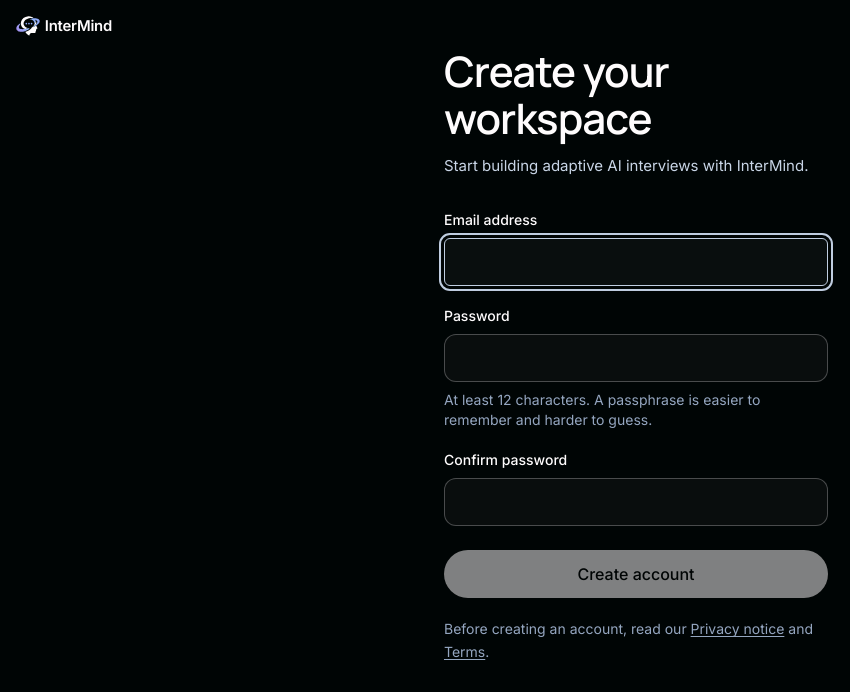
RecruiterSignupPage › will not submit when the two passwords differ
Type "new@example.com" into the field labelled "Email address".
click(636, 262); type("new@example.com")  # box [444, 238, 828, 286]
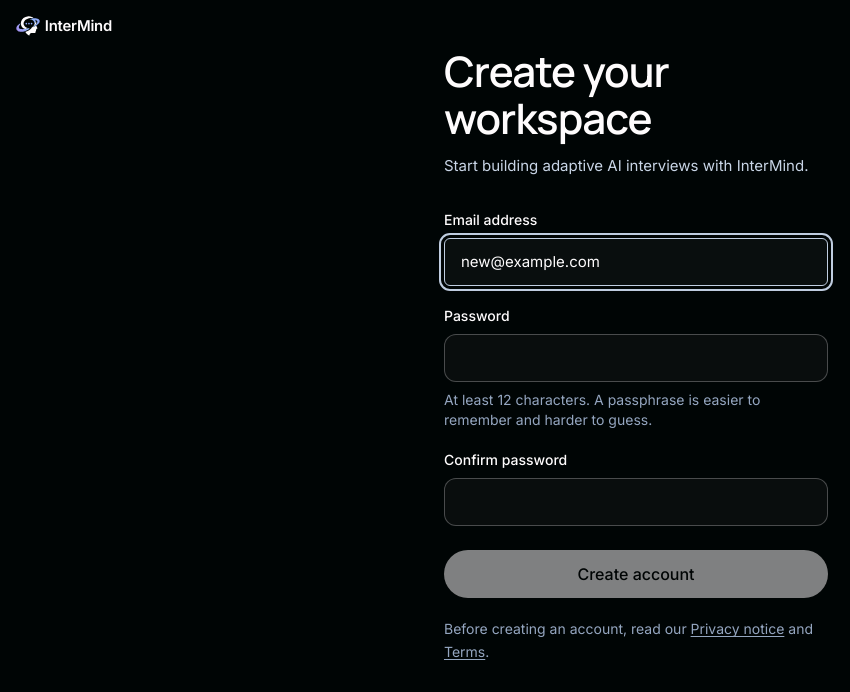
Type "a-long-enough-passphrase" into the password field labelled "Password".
click(636, 358); type("a-long-enough-passphrase")  # box [444, 334, 828, 382]
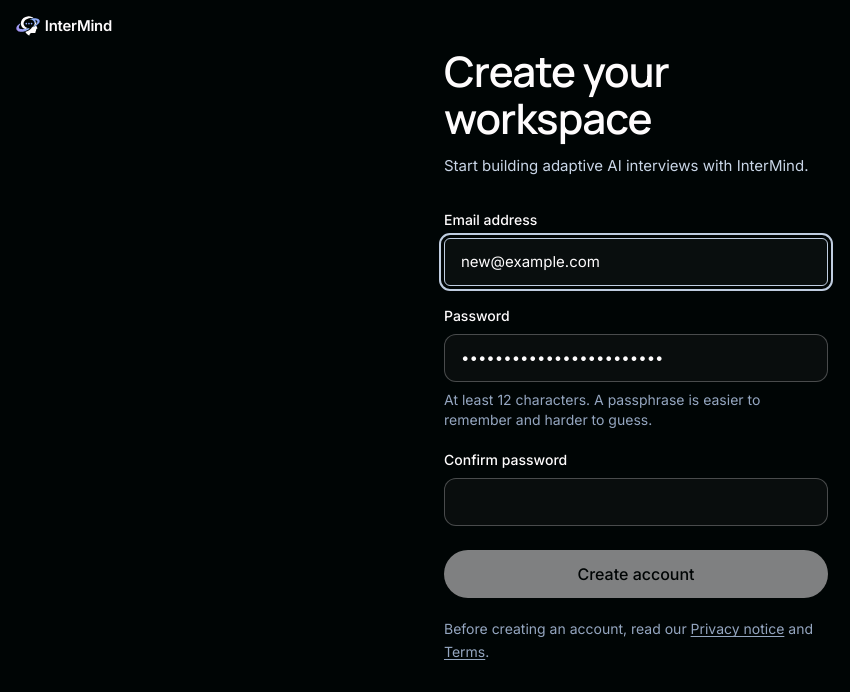
Type "something-else-entirely" into the password field labelled "Confirm password".
click(636, 502); type("something-else-entirely")  # box [444, 478, 828, 526]
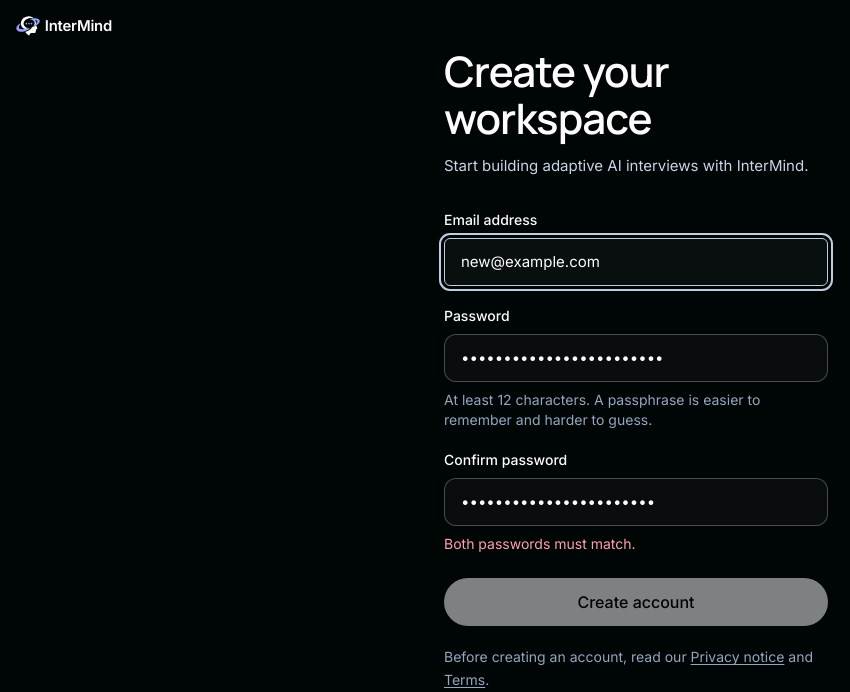
Expected: the button "Create account" is disabled, [444, 578, 828, 626]
Now the message reads "Both passwords must match.", box [444, 535, 636, 552]
